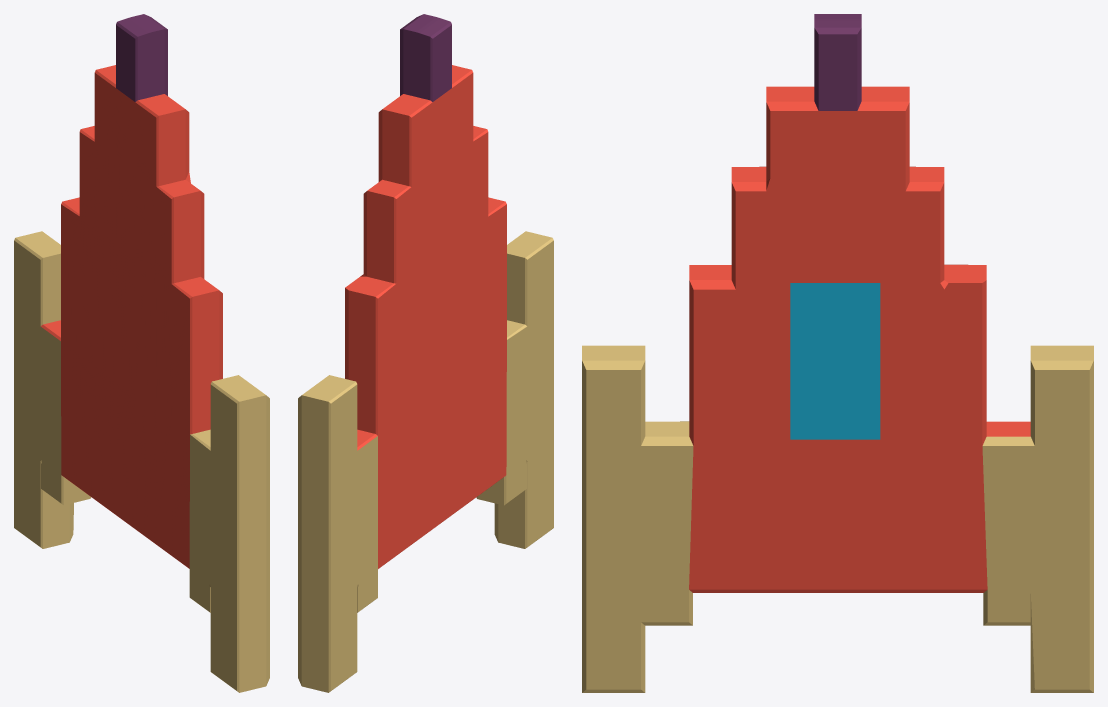
The model's file is Albna_modelo nave 2.fbx.
The picture shows the model from 3 angles, left to right: view 1: azimuth 30°, elevation 25°; view 2: azimuth 150°, elevation 25°; view 3: azimuth 270°, elevation 25°; orthographic projection. The views are drawn at different scales.
Visible parts, largest first — view 1: nave buena 2; view 2: nave buena 2; view 3: nave buena 2.
Boxes of the visible parts, x1,y1,x2,y2 form: nave buena 2: (14,14,269,692); nave buena 2: (298,14,553,692); nave buena 2: (582,14,1093,692).
Size of the model in its own units: 30.02 by 490 by 342.
